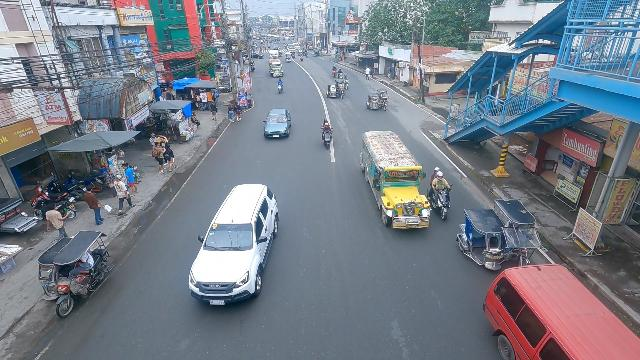car: (187, 182, 280, 307), (263, 108, 292, 140), (251, 52, 263, 59)
jeepney: (359, 129, 432, 231), (268, 59, 284, 78), (268, 49, 279, 59)
motorcycle: (428, 171, 451, 221), (321, 121, 334, 149), (277, 80, 284, 95), (344, 77, 350, 90), (332, 65, 338, 78), (337, 68, 343, 80), (291, 51, 296, 59), (299, 55, 304, 61)
